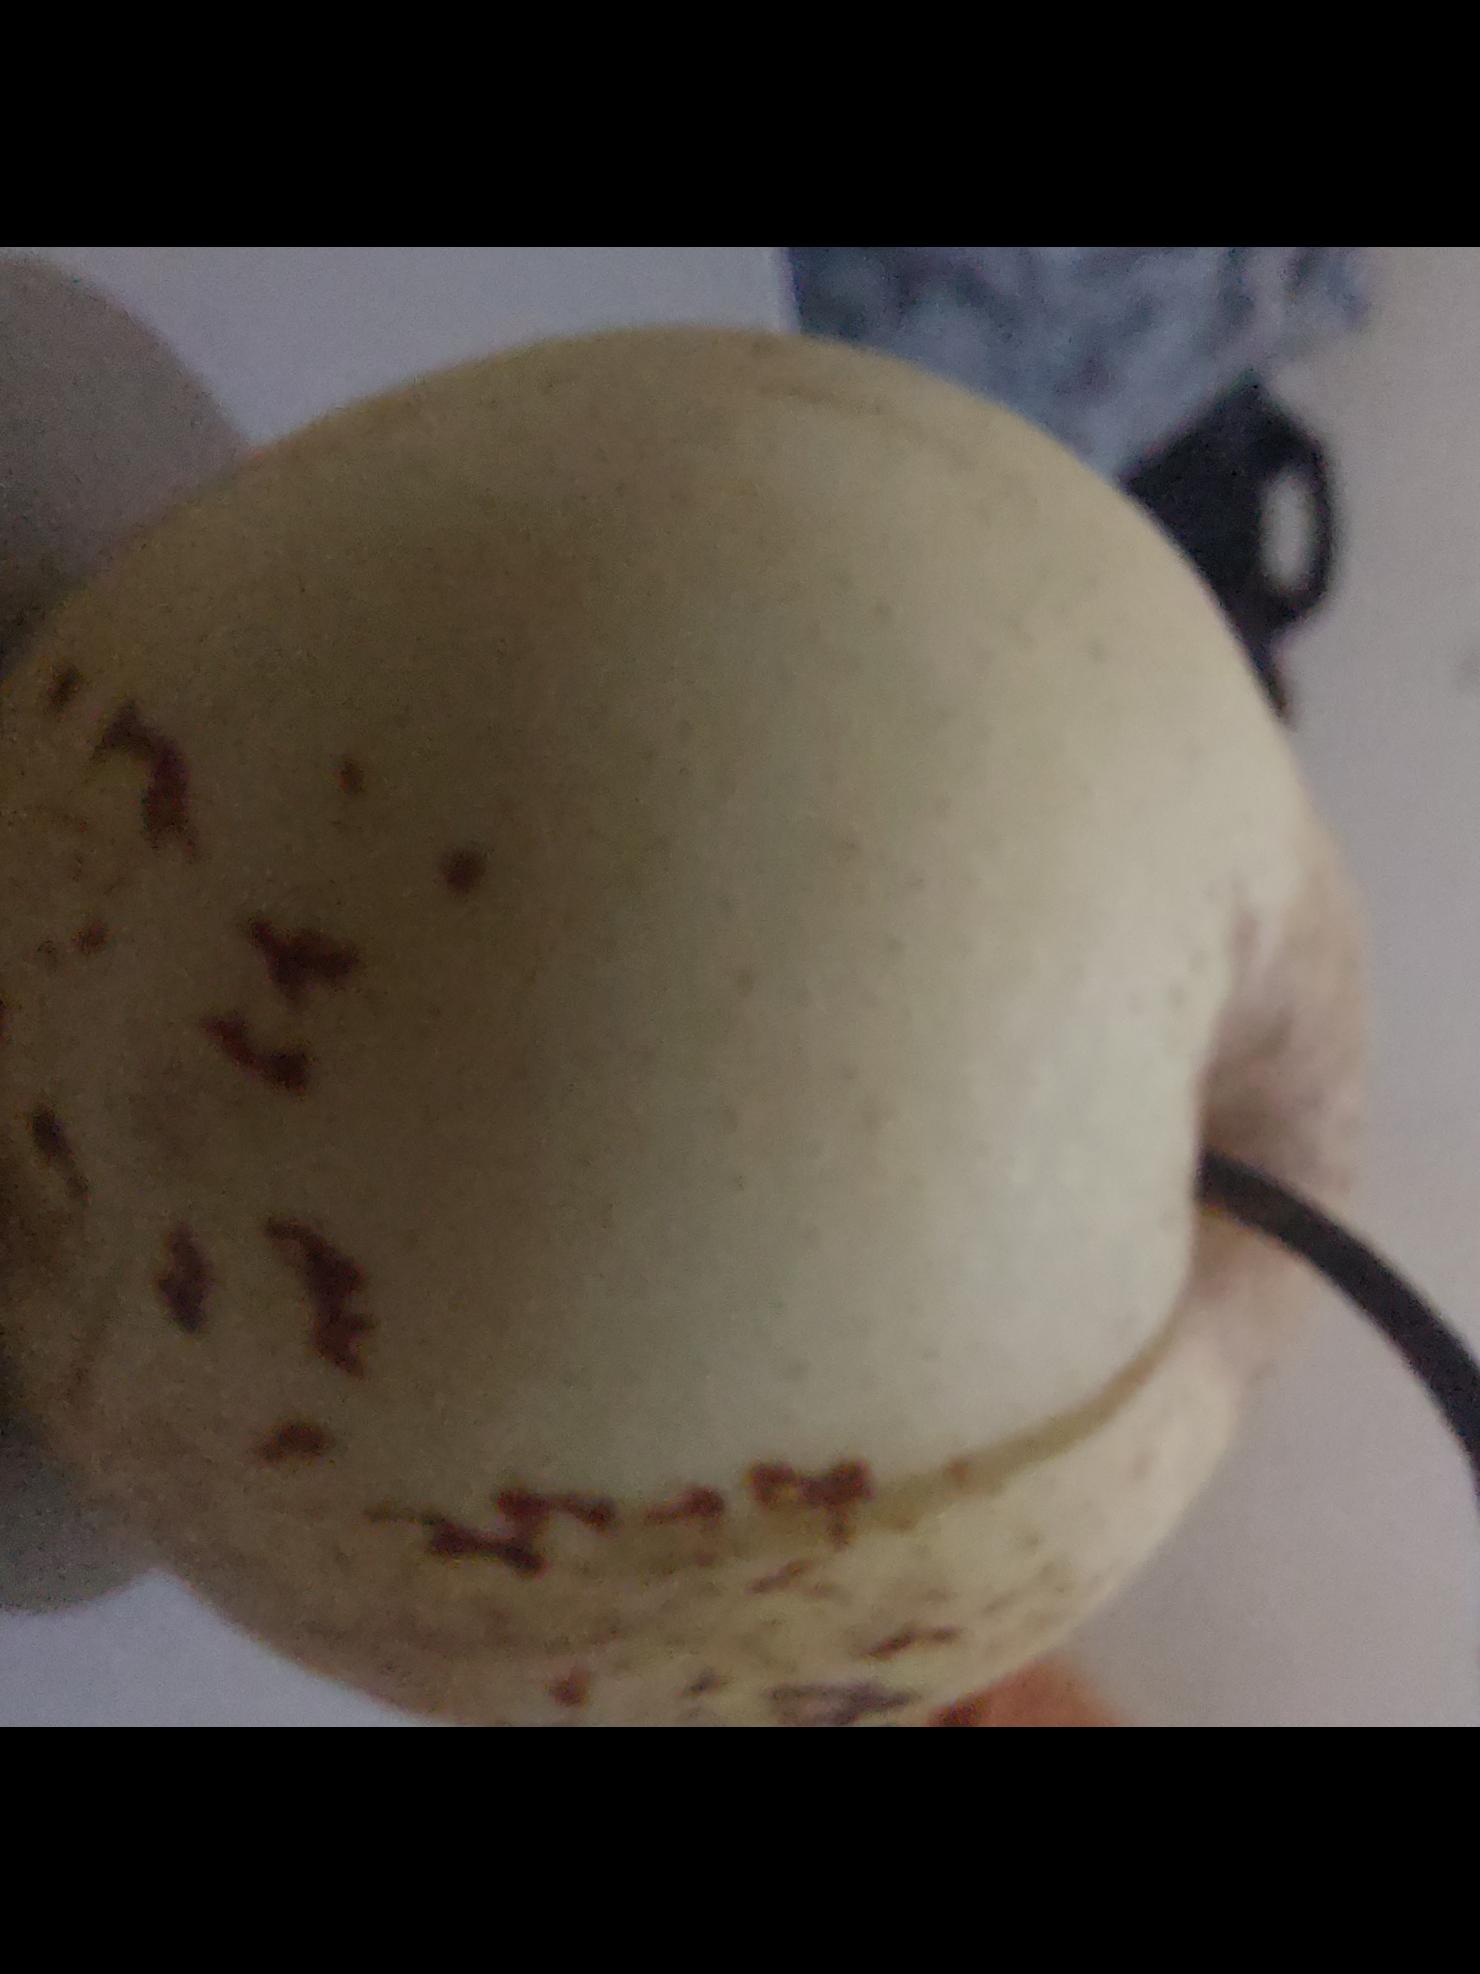Bad Pear: (0, 375, 1353, 1727)
